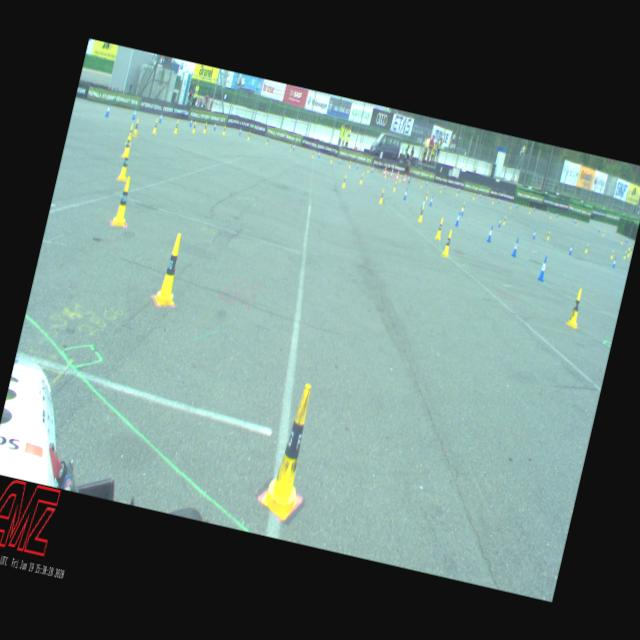blue_cone: (537, 254, 548, 280), (510, 237, 520, 257), (486, 225, 494, 242), (104, 102, 111, 118), (454, 210, 460, 226), (420, 197, 426, 210), (132, 106, 137, 118), (403, 187, 408, 198), (158, 111, 163, 122), (568, 244, 573, 254), (429, 195, 433, 206), (460, 204, 464, 215), (532, 230, 536, 240), (213, 121, 217, 130), (612, 258, 616, 266), (189, 118, 193, 126), (238, 126, 242, 134), (572, 216, 576, 223), (498, 218, 501, 226), (597, 225, 600, 232), (338, 158, 341, 165), (479, 191, 482, 198), (371, 166, 374, 173), (532, 204, 535, 211), (546, 209, 549, 215), (626, 236, 628, 244), (318, 150, 320, 158), (458, 186, 460, 193), (356, 162, 358, 169), (444, 183, 446, 190), (386, 170, 388, 177), (293, 144, 295, 150), (516, 202, 518, 208), (426, 179, 428, 185), (556, 212, 558, 217), (498, 198, 500, 202)
large_orange_cone: (402, 172, 407, 183), (389, 168, 394, 178), (382, 166, 387, 176), (396, 168, 400, 180)
yellow_cone: (258, 381, 324, 521), (152, 231, 189, 307), (111, 174, 136, 227), (566, 286, 586, 328), (117, 148, 132, 180), (441, 228, 453, 256), (434, 217, 444, 239), (124, 123, 134, 145), (131, 117, 140, 137), (122, 136, 130, 158), (416, 205, 425, 222), (378, 188, 385, 204), (152, 118, 158, 133), (173, 119, 179, 133), (342, 175, 348, 188), (202, 121, 208, 132), (359, 172, 364, 184), (192, 120, 196, 134), (392, 180, 397, 191), (460, 200, 464, 212), (424, 190, 428, 200), (584, 242, 588, 252), (222, 124, 226, 134), (265, 136, 269, 145), (502, 216, 506, 224), (610, 250, 614, 258), (546, 230, 550, 238), (622, 250, 626, 258), (626, 248, 630, 256), (398, 174, 402, 182), (247, 130, 250, 140), (384, 168, 387, 178), (454, 189, 458, 196), (629, 246, 633, 253), (574, 219, 578, 226), (472, 192, 475, 200), (439, 185, 442, 193), (366, 165, 369, 172), (348, 160, 351, 167), (311, 150, 314, 157), (491, 198, 494, 204), (620, 238, 623, 244), (289, 144, 292, 150), (628, 242, 630, 250), (330, 155, 332, 163), (420, 181, 422, 188), (528, 208, 530, 214), (550, 212, 552, 218), (602, 230, 604, 236), (509, 202, 511, 208)
